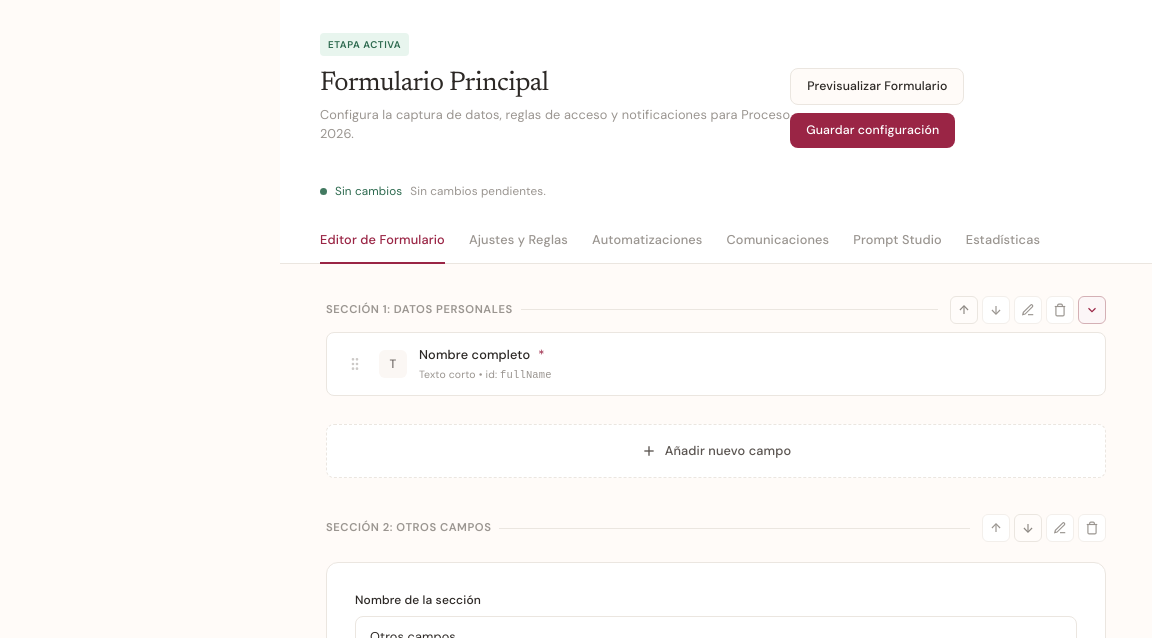
Test case: StageConfigEditor › renames a section from the section toolbar pencil action
The width and height of the screenshot is (1152, 638).
Click the button named "Editar nombre de sección" in the row of "Sección 1: Datos personales" at (1028, 310), box [1014,296,1042,324]
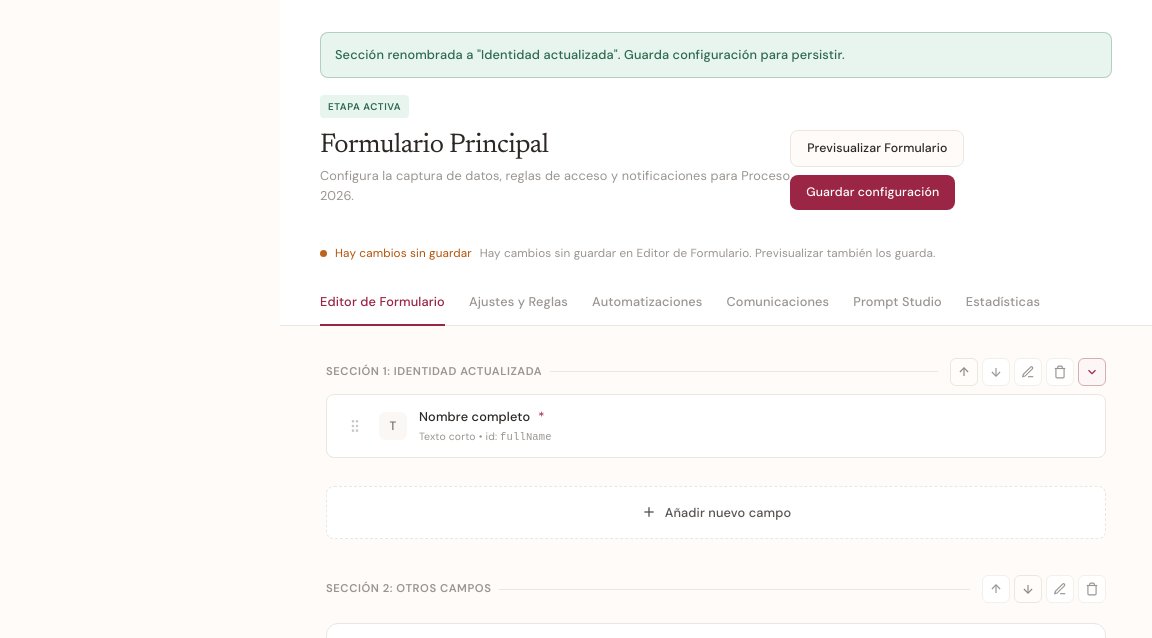
Check: the text "Sección 1: Identidad actualizada" is shown, box [326,364,542,378]
